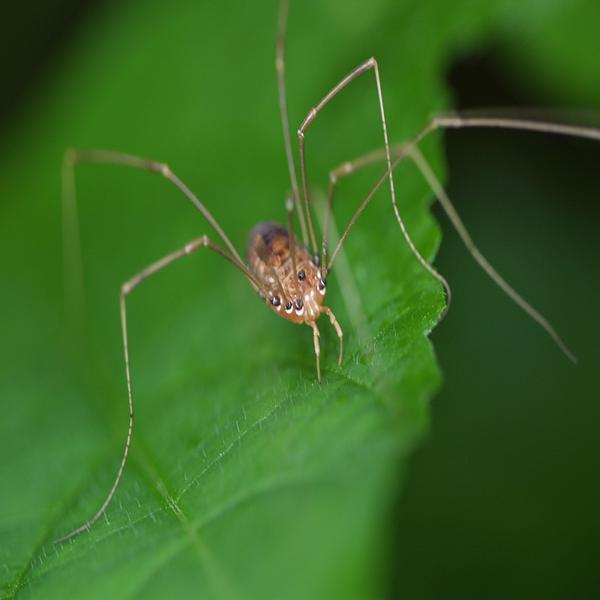Daddy Long Legs Spider: (65, 53, 570, 538)
